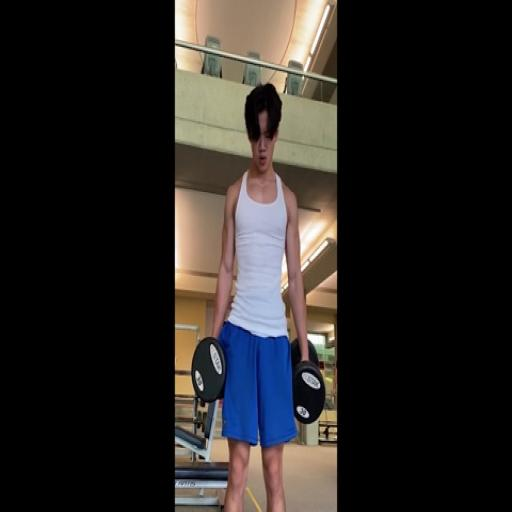exercise: (205, 81, 317, 511)
